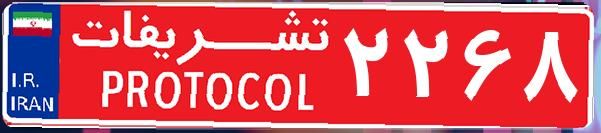2: (340, 20, 400, 115), (400, 20, 460, 115)
6: (460, 20, 520, 115)
8: (520, 20, 580, 115)
تشریفات: (60, 8, 340, 125)
